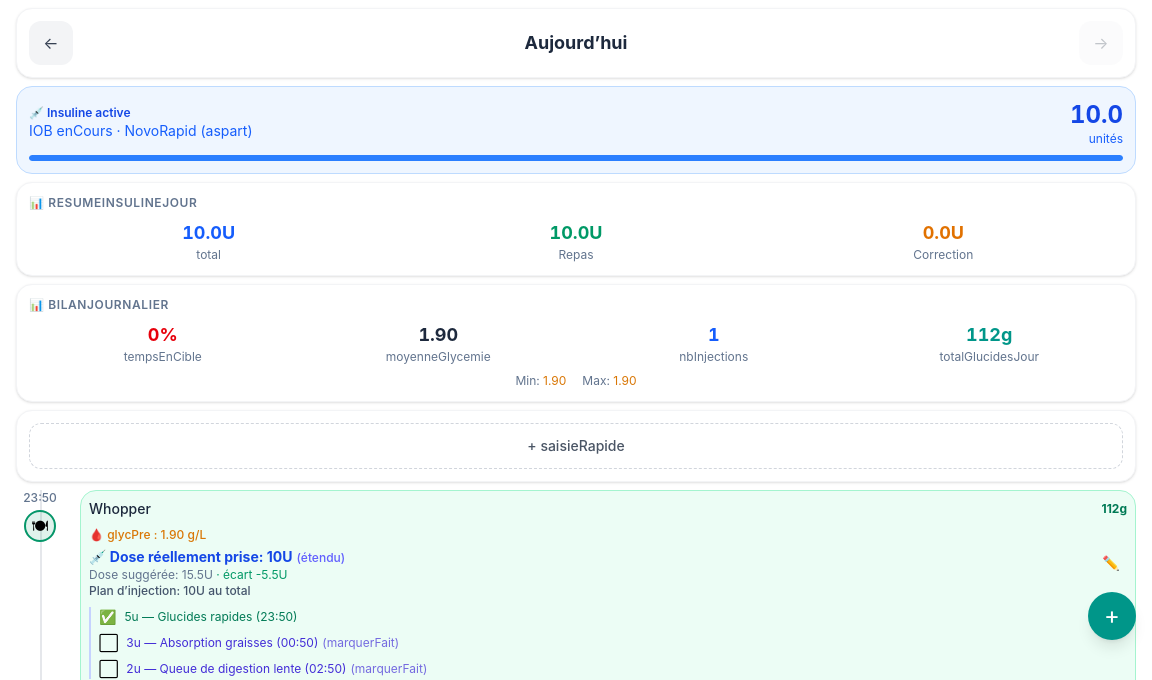
Test case: DayTimeline › rescales the persisted split plan when the dose is edited later
Click the button titled "Modifier la dose" at (1111, 563), box left=1095, top=547, right=1127, bottom=579
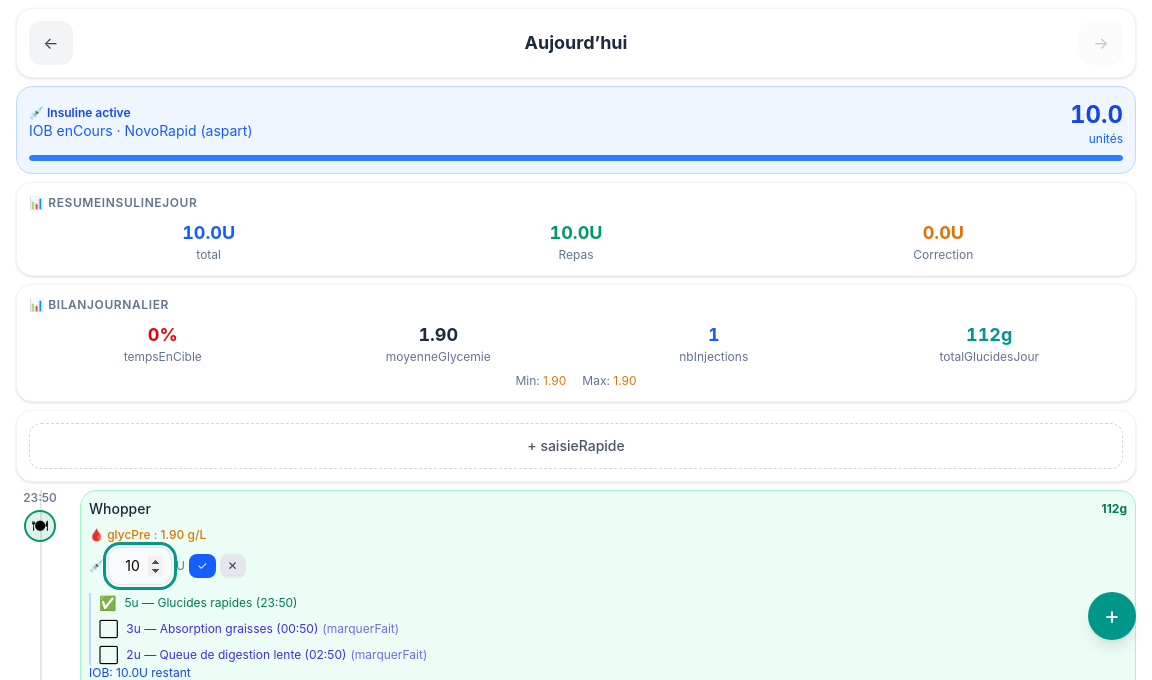
Replace the text in the number field showing "10" with "8" at (140, 566), box left=108, top=547, right=172, bottom=585
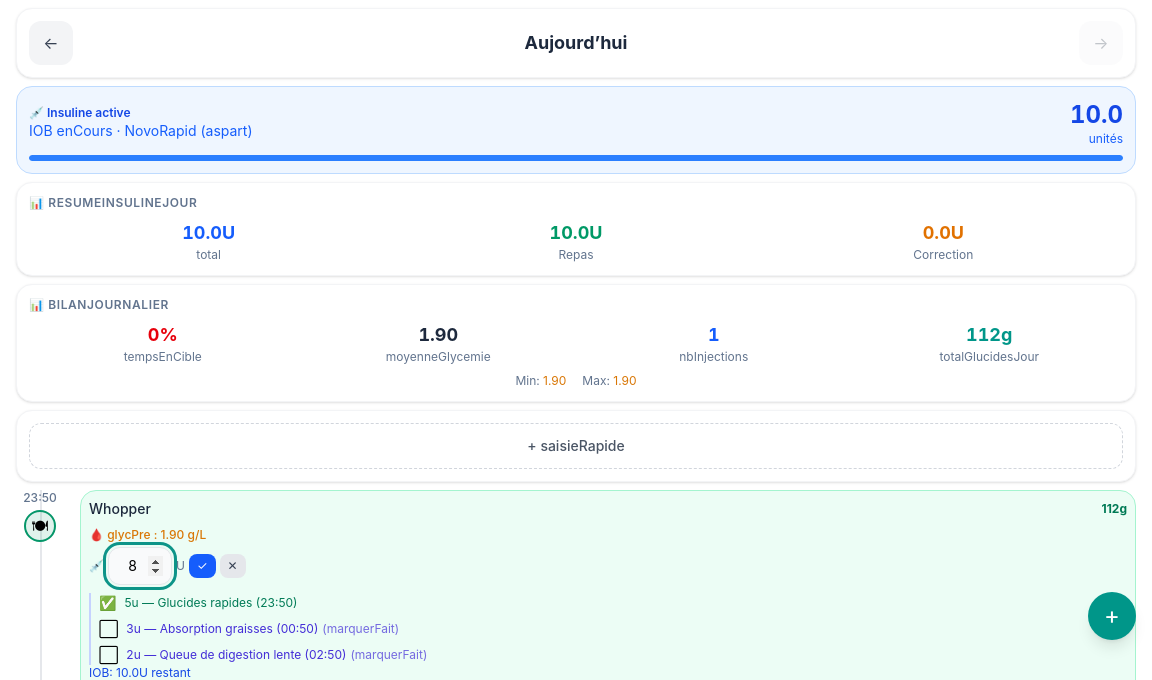
Click the button "✓" at (202, 566), box left=189, top=554, right=216, bottom=578
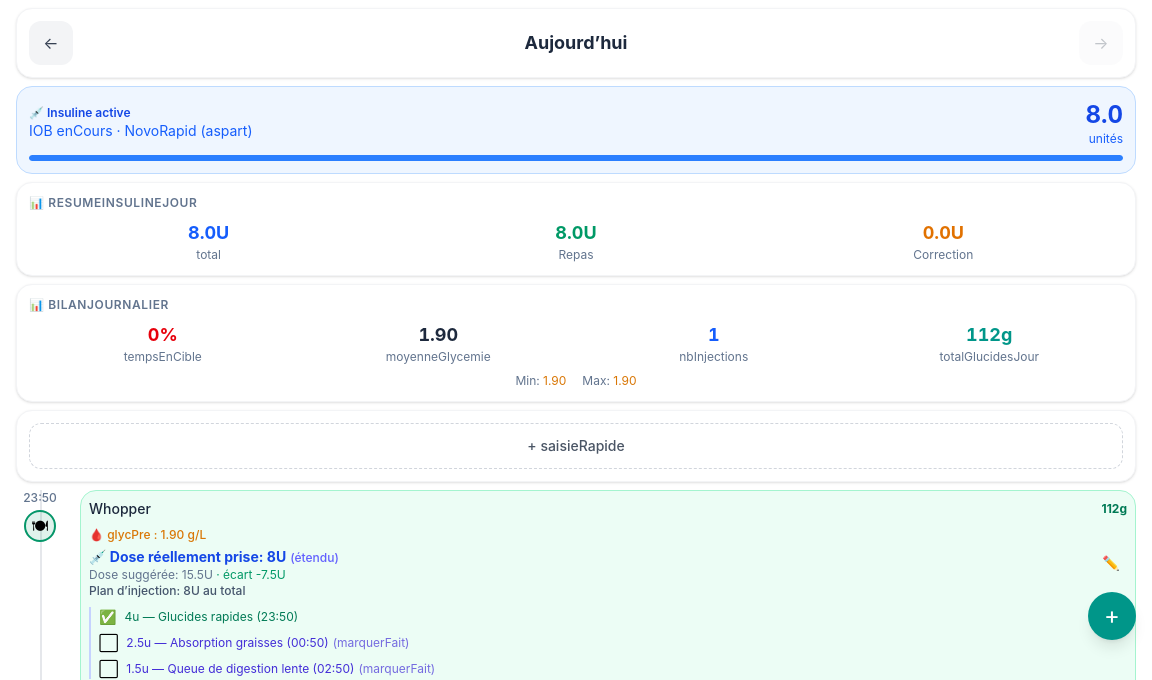
Expected: the text "💉 Dose réellement prise: 8U(étendu)" is shown, left=89, top=547, right=339, bottom=567
Expected: the text "Plan d’injection: 8U au total" is shown, left=89, top=583, right=245, bottom=598
Expected: the button "4u — Glucides rapides (23:50)" is shown, left=124, top=609, right=298, bottom=625
